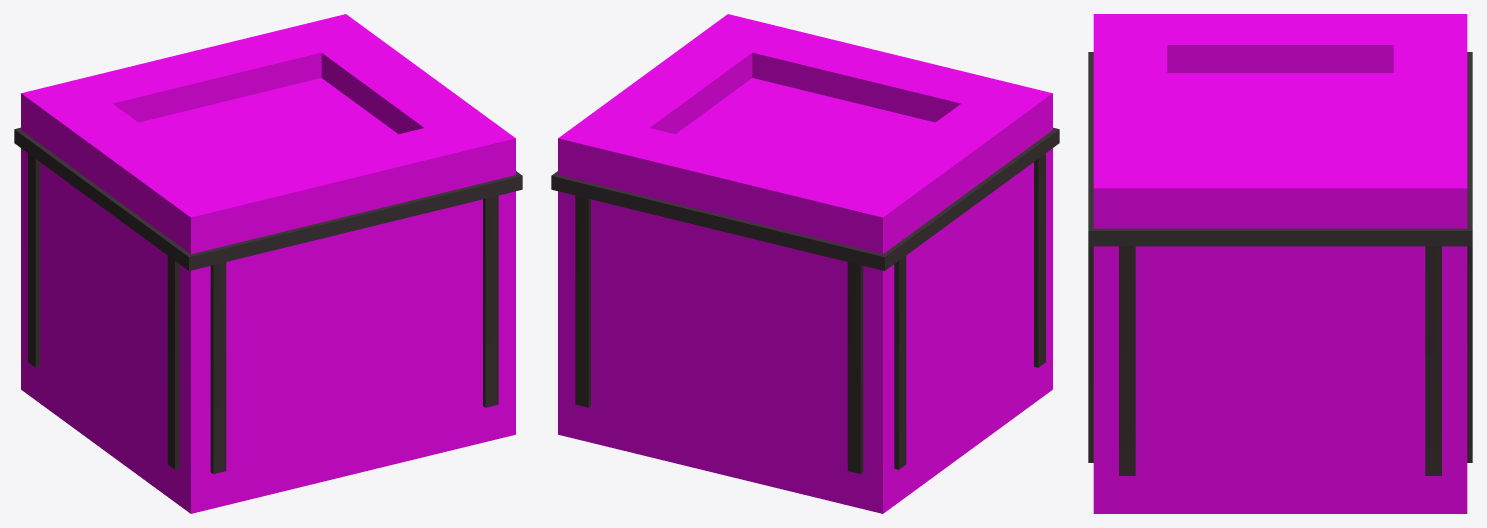
Rendered from interior-kawabe-shop.glb.
3 views of the same model, side by side, from view 1: azimuth 30°, elevation 25°; view 2: azimuth 150°, elevation 25°; view 3: azimuth 270°, elevation 25° (orthographic). The views are drawn at different scales.
Parts seen in each view (by area): view 1: Col_wall_front, Col_wall_left, Col_ceiling, Col_wall_right, Col_wall_back, Interior kawabe-shop Plaster; view 2: Col_wall_back, Col_wall_left, Col_ceiling, Col_wall_front, Interior kawabe-shop Plaster, Col_wall_right; view 3: Col_wall_right, Col_ceiling, Col_wall_back, Col_wall_front, Interior kawabe-shop Plaster, Col_wall_left.
Part boxes in pixels (x1,y1,x2,y2): Col_wall_front: [157, 114, 515, 513]; Col_wall_left: [21, 79, 248, 512]; Col_ceiling: [21, 78, 515, 315]; Col_wall_right: [288, 14, 515, 448]; Col_wall_back: [21, 14, 378, 413]; Interior kawabe-shop Plaster: [14, 127, 522, 474]; Col_wall_back: [558, 114, 916, 513]; Col_wall_left: [825, 79, 1052, 513]; Col_ceiling: [558, 78, 1052, 315]; Col_wall_front: [695, 14, 1052, 413]; Interior kawabe-shop Plaster: [551, 127, 1059, 474]; Col_wall_right: [559, 14, 785, 340]; Col_wall_right: [1094, 157, 1466, 513]; Col_ceiling: [1093, 73, 1467, 296]; Col_wall_back: [1393, 14, 1467, 513]; Col_wall_front: [1093, 14, 1167, 513]; Interior kawabe-shop Plaster: [1088, 52, 1472, 475]; Col_wall_left: [1093, 14, 1467, 72].
Size of the model in its own units: 7.6 by 6.45 by 6.9.
